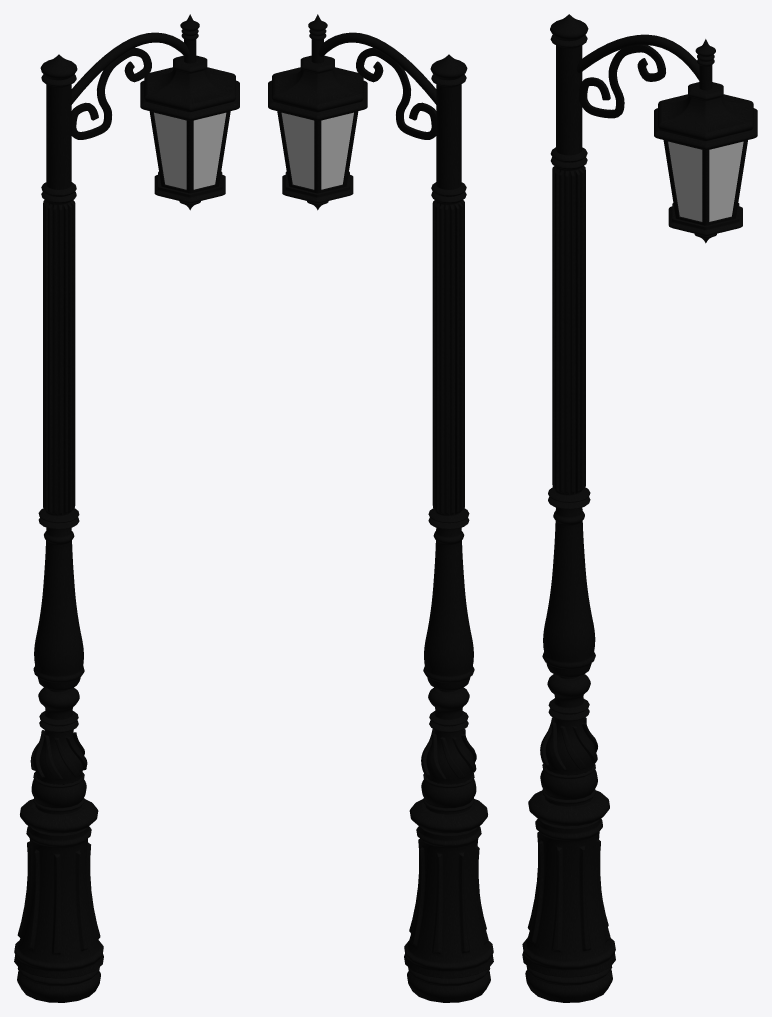
Rendered from classic single light.obj.
3 views of the same model, side by side, from view 1: azimuth 30°, elevation 25°; view 2: azimuth 150°, elevation 25°; view 3: azimuth 330°, elevation 25° (orthographic). The views are drawn at different scales.
Visible parts, largest first — view 1: classic_single_light_pole_001; view 2: classic_single_light_pole_001; view 3: classic_single_light_pole_001.
Boxes of the visible parts, box(x1,y1,x2,y2) form: classic_single_light_pole_001: box(14, 14, 239, 1002); classic_single_light_pole_001: box(268, 14, 493, 1002); classic_single_light_pole_001: box(522, 14, 757, 1002).
Size of the model in its own units: 101 by 412 by 39.43.
